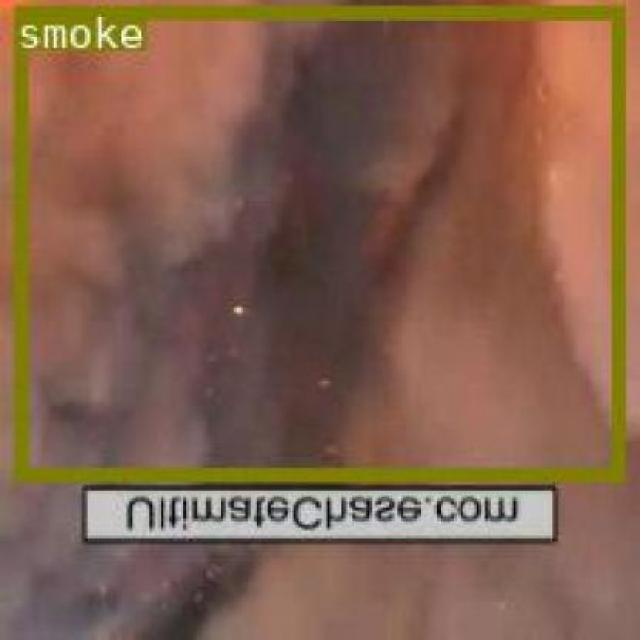Smoke: (13, 4, 622, 478)
